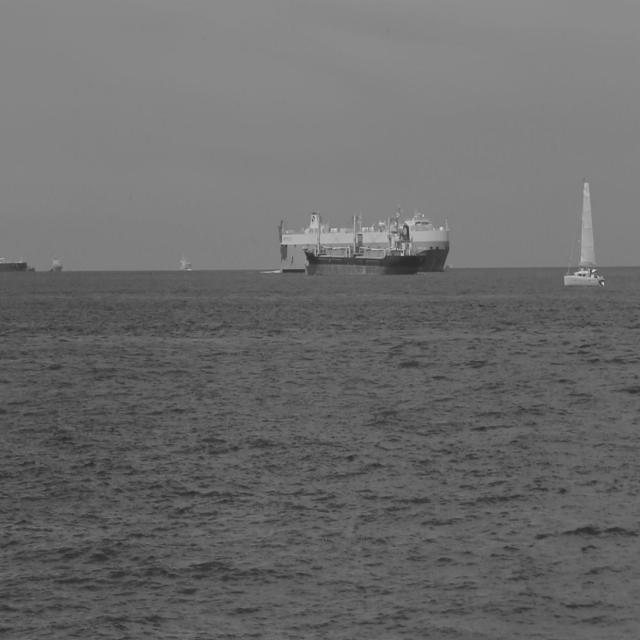ship: (277, 208, 450, 274), (302, 202, 428, 277), (562, 176, 606, 288), (0, 256, 28, 274), (48, 254, 63, 274), (178, 253, 193, 273), (26, 263, 36, 274)
